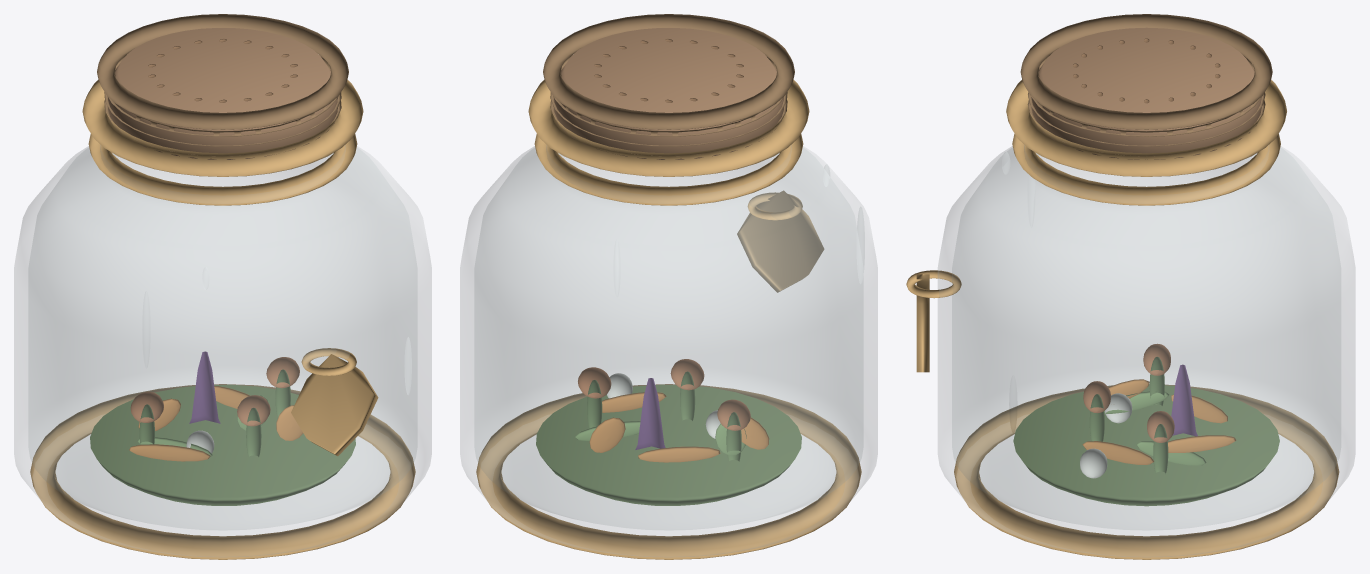
Rendered from jar_09_park.glb.
3 renders of one model, left to right at view 1: azimuth 30°, elevation 25°; view 2: azimuth 150°, elevation 25°; view 3: azimuth 270°, elevation 25°, orthographic.
Parts seen in each view (by area): view 1: Outer glass wall, Inner glass wall, Natural cork stopper, Soft moss and earth bed, Foot brass ring, Stopper top binding, Stopper retaining ring, Neck collar, Unlabeled leaf charm, Toadstool cap (×3), Pressed botanical leaf (×2), Cork grain (×2) (+3 smaller); view 2: Outer glass wall, Inner glass wall, Natural cork stopper, Soft moss and earth bed, Foot brass ring, Stopper top binding, Stopper retaining ring, Neck collar, Unlabeled leaf charm, Pressed botanical leaf (×4), Toadstool cap (×3), Mushroom stem (×3) (+3 smaller); view 3: Outer glass wall, Inner glass wall, Natural cork stopper, Soft moss and earth bed, Foot brass ring, Stopper top binding, Stopper retaining ring, Neck collar, Pressed botanical leaf (×5), Toadstool cap (×3), Unlabeled leaf charm, Wild berry (×2) (+4 smaller).
Boxes of the visible parts, box(x1,y1,x2,y2) form: Outer glass wall: box(14, 145, 431, 557); Inner glass wall: box(29, 148, 416, 529); Natural cork stopper: box(108, 28, 337, 159); Soft moss and earth bed: box(90, 384, 355, 505); Foot brass ring: box(30, 384, 415, 559); Stopper top binding: box(97, 14, 348, 129); Stopper retaining ring: box(82, 80, 363, 176); Neck collar: box(88, 134, 357, 205); Unlabeled leaf charm: box(291, 354, 378, 456); Toadstool cap (×3): box(130, 357, 299, 426); Pressed botanical leaf (×2): box(129, 405, 303, 461); Cork grain (×2): box(104, 55, 341, 146); Outer glass wall: box(460, 145, 877, 557); Inner glass wall: box(475, 148, 862, 529); Natural cork stopper: box(554, 28, 783, 159); Soft moss and earth bed: box(536, 384, 801, 505); Foot brass ring: box(476, 384, 861, 559); Stopper top binding: box(543, 14, 794, 129); Stopper retaining ring: box(528, 80, 809, 176); Neck collar: box(534, 134, 803, 205); Unlabeled leaf charm: box(737, 190, 824, 292); Pressed botanical leaf (×4): box(589, 392, 769, 462); Toadstool cap (×3): box(578, 359, 750, 430); Mushroom stem (×3): box(587, 371, 741, 461); Outer glass wall: box(938, 145, 1355, 557); Inner glass wall: box(952, 148, 1340, 529); Natural cork stopper: box(1031, 27, 1261, 159); Soft moss and earth bed: box(1013, 384, 1279, 506); Foot brass ring: box(954, 384, 1339, 559); Stopper top binding: box(1020, 14, 1272, 129); Stopper retaining ring: box(1006, 80, 1286, 176); Neck collar: box(1012, 134, 1280, 205); Pressed botanical leaf (×5): box(1082, 391, 1236, 465); Toadstool cap (×3): box(1083, 343, 1174, 442); Unlabeled leaf charm: box(916, 274, 929, 372); Wild berry (×2): box(1080, 393, 1132, 478).
Size of the model in its own units: 1.18 by 1.33 by 1.27.
